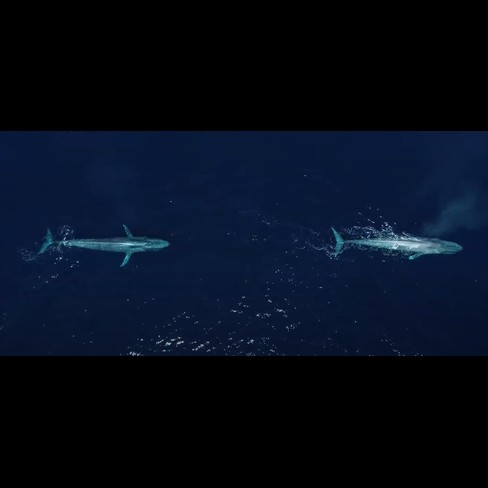bluewhale: (324, 219, 466, 271), (28, 221, 175, 271)
